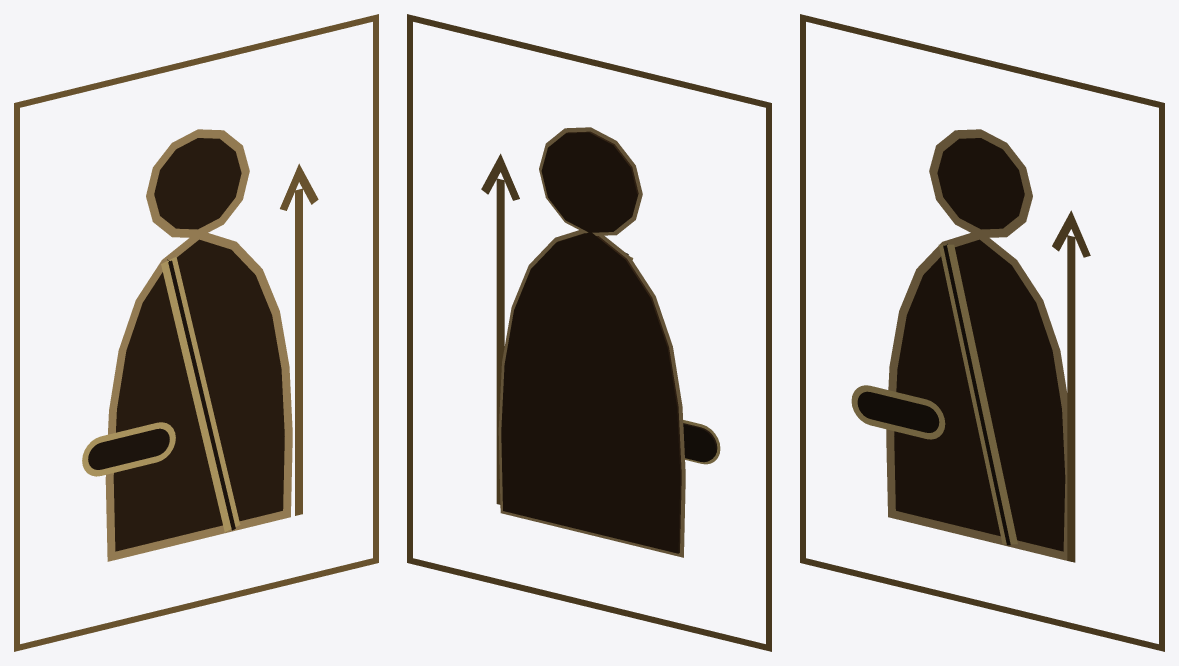
Rendered from player-deacon.glb.
3 views of the same model, side by side, from view 1: azimuth 30°, elevation 25°; view 2: azimuth 150°, elevation 25°; view 3: azimuth 330°, elevation 25° (orthographic).
Visible parts, largest first — view 1: player-deacon; view 2: player-deacon; view 3: player-deacon.
Part boxes in pixels (left/top/right/bottom): player-deacon: left=14, top=14, right=378, bottom=651; player-deacon: left=407, top=14, right=771, bottom=651; player-deacon: left=800, top=14, right=1164, bottom=651.
Size of the model in its own units: 0.2614 by 0.3757 by 0.0104.
